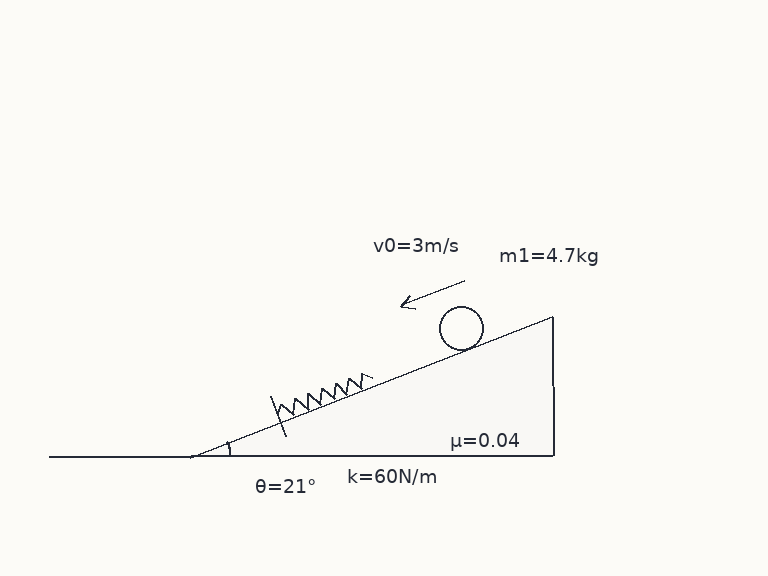ball: (437, 304, 485, 352)
ramp: (188, 315, 554, 458)
spring: (275, 371, 374, 416)
